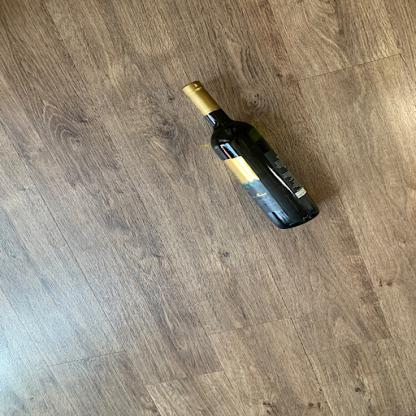trash: (180, 81, 326, 229)
